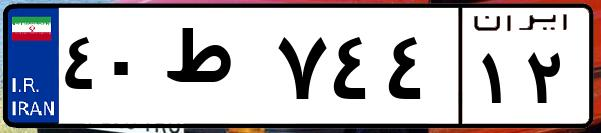0: (110, 28, 158, 98)
1: (475, 38, 525, 113)
2: (525, 38, 570, 115)
4: (385, 28, 445, 110), (330, 28, 385, 110), (57, 26, 110, 100)
7: (270, 28, 330, 110)
ط: (158, 20, 270, 120)
